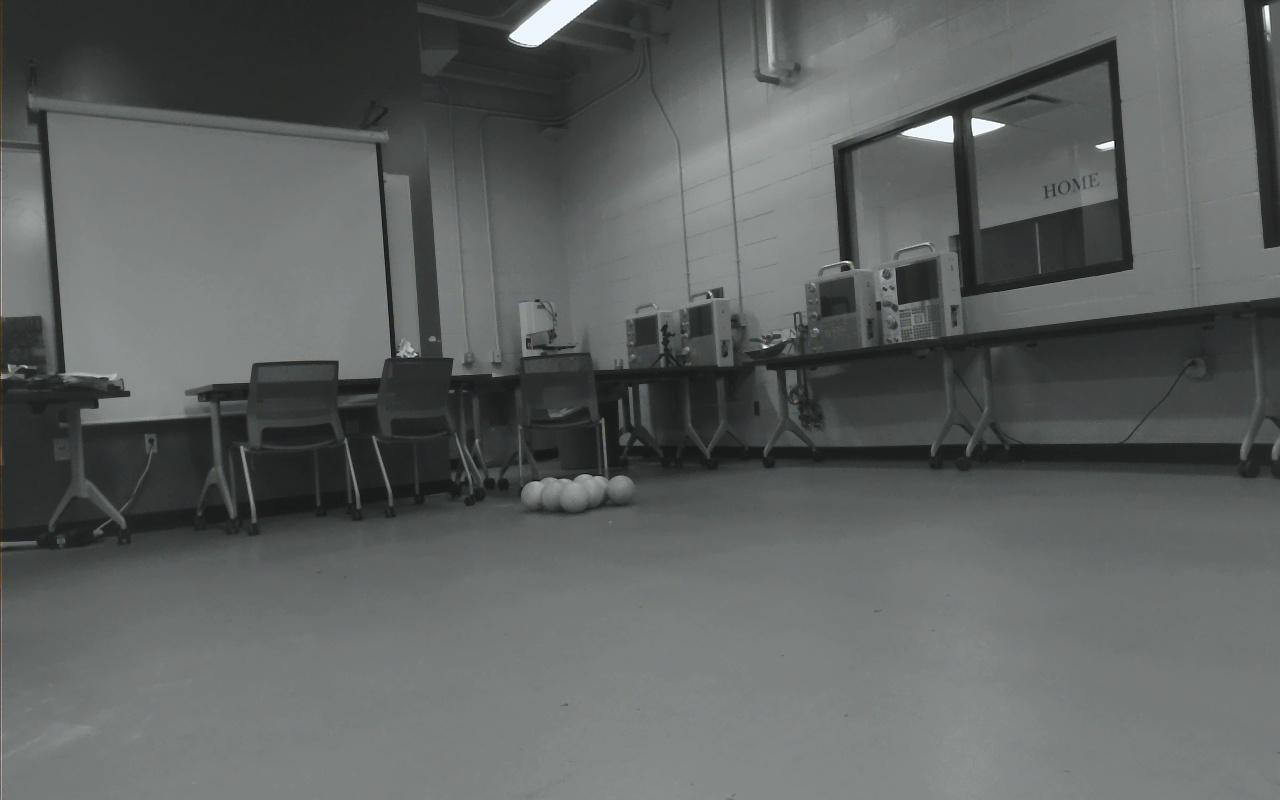Fuel: (559, 479, 589, 513), (539, 479, 567, 512), (521, 480, 549, 512), (607, 475, 635, 506), (579, 477, 605, 510), (539, 476, 564, 509), (572, 473, 598, 504), (556, 476, 579, 508), (591, 475, 614, 505)
